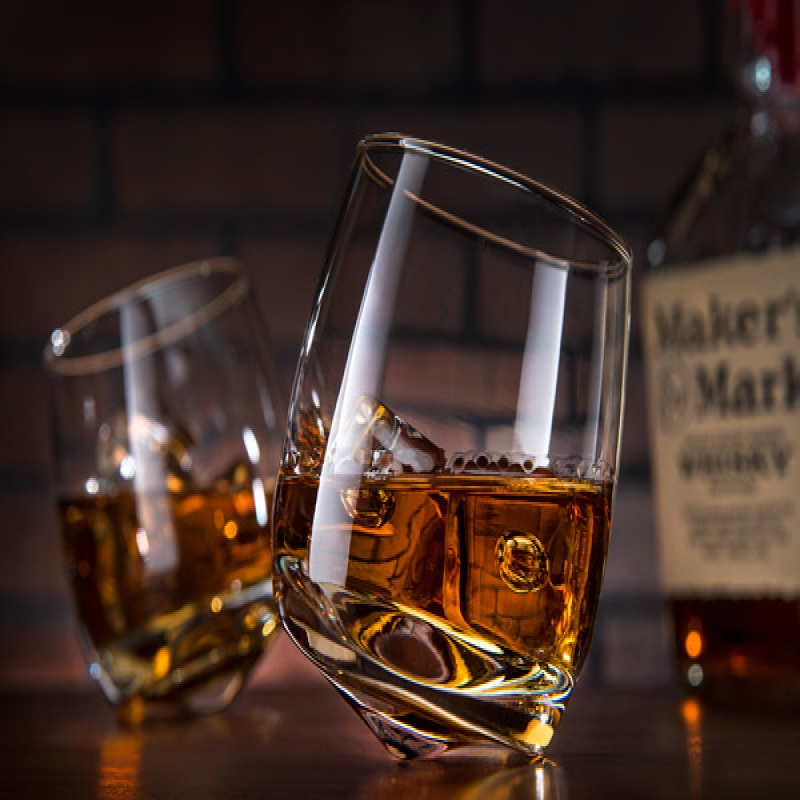whiskey: (271, 127, 637, 741)
